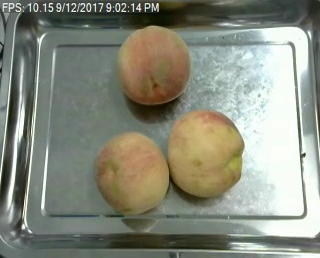Peach: (168, 107, 243, 196), (94, 131, 168, 216), (117, 25, 190, 105)
